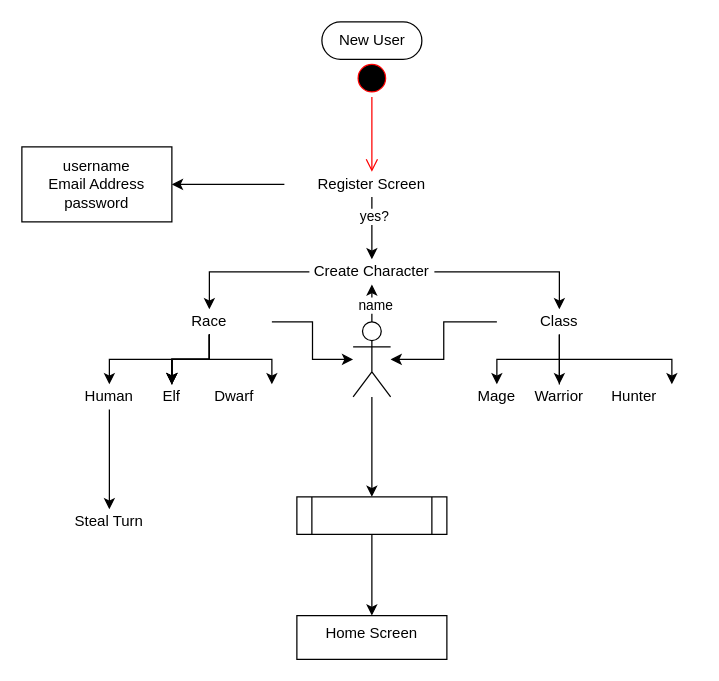
Image size: 719x681. Some labels were removed from this diagram. Here are the shapes that lost their labels. From the top down, the box of each, then its label:
(352, 321, 391, 397): Actor
(296, 496, 447, 534): Save to profile
